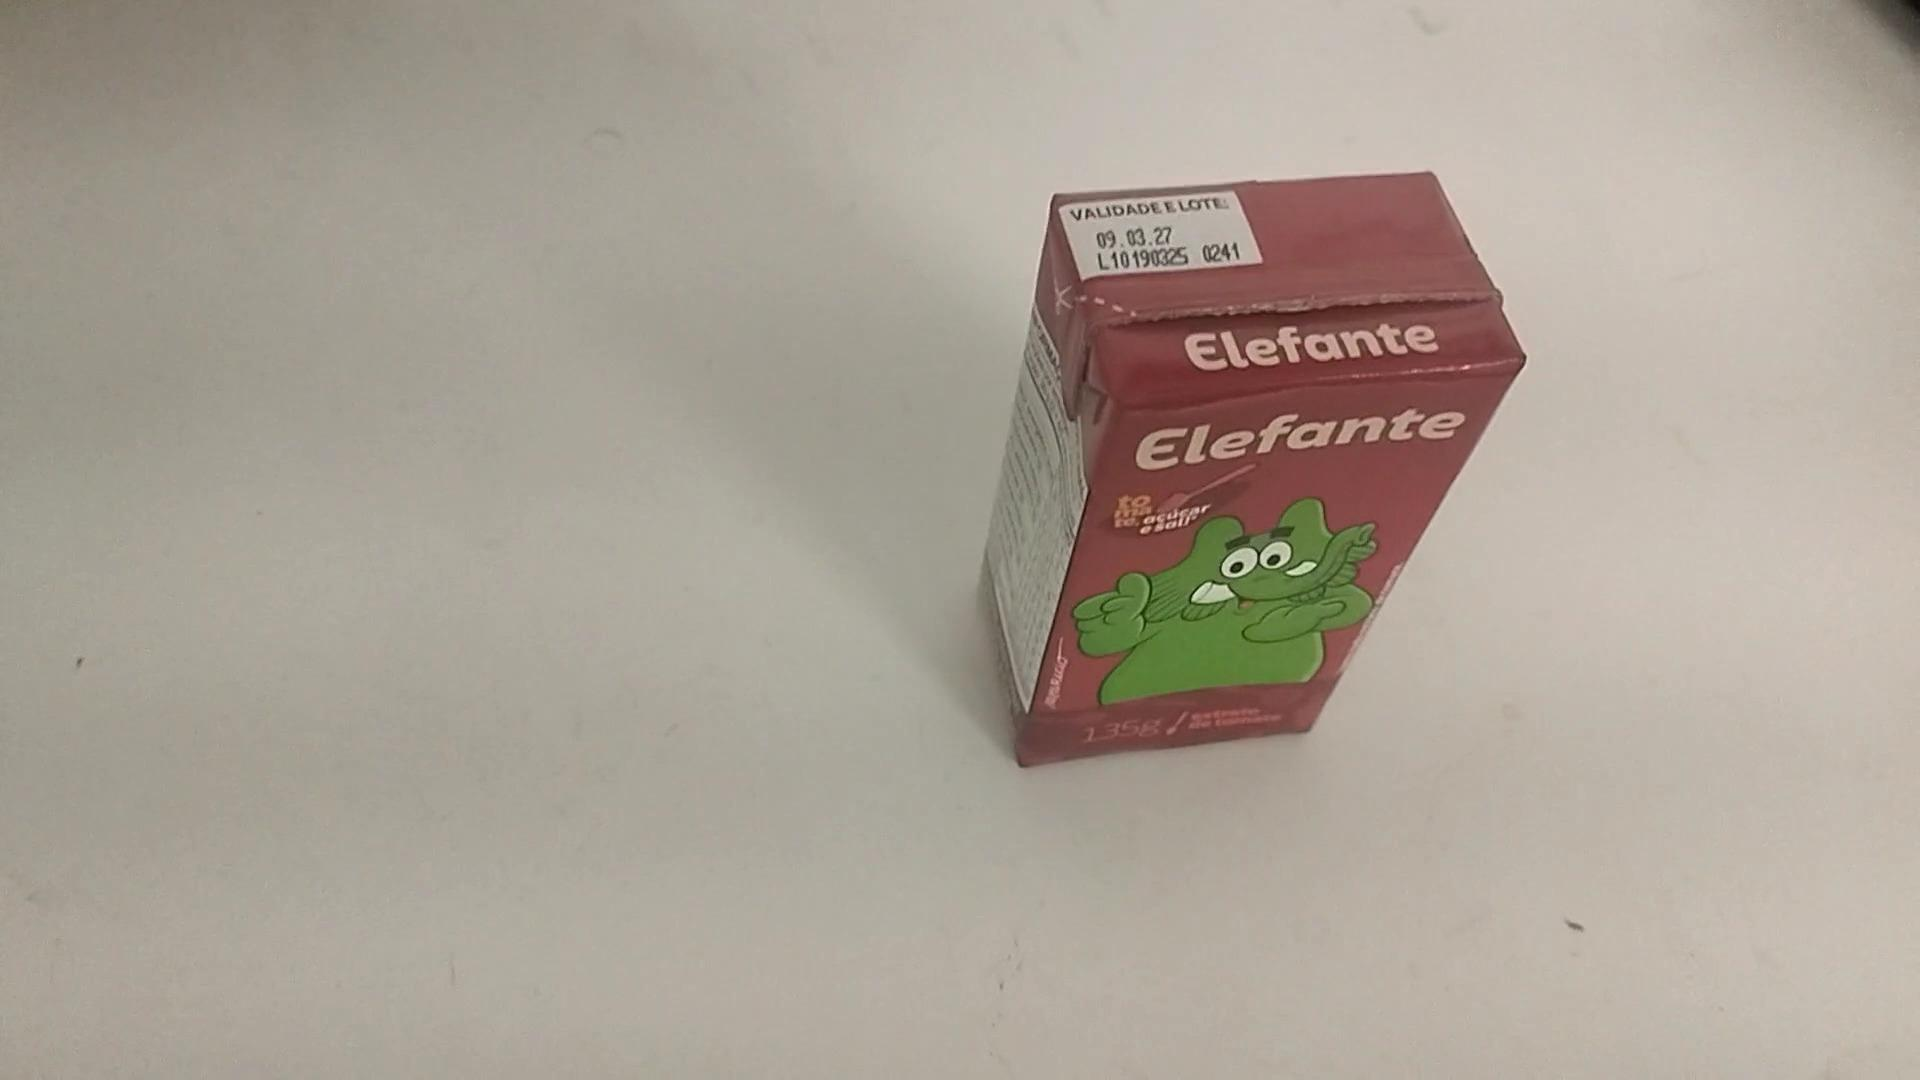tomate: (973, 170, 1524, 771)
